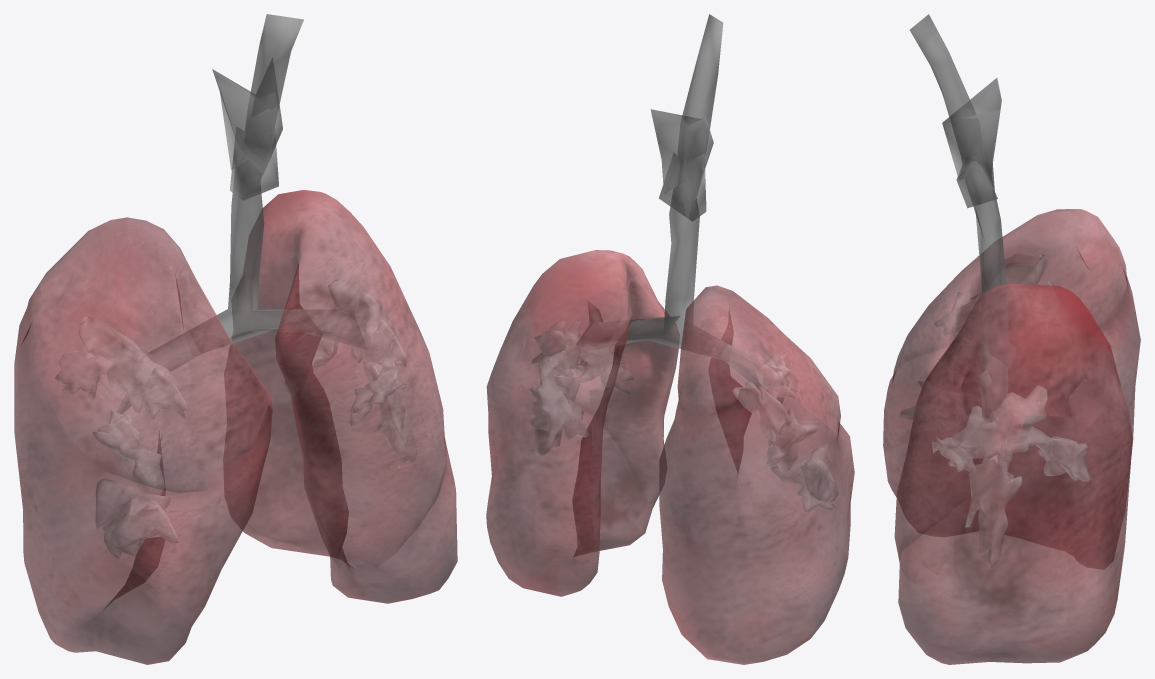
The model's file is simplified_lung6.obj.
The picture shows the model from 3 angles, left to right: view 1: azimuth 30°, elevation 25°; view 2: azimuth 150°, elevation 25°; view 3: azimuth 270°, elevation 25°; orthographic projection. The views are drawn at different scales.
Parts seen in each view (by area): view 1: thlow, infection, thup; view 2: thlow, thup, infection; view 3: thlow, thup, infection.
Part boxes in pixels (x1,y1,x2,y2): thlow: [14, 190, 457, 664]; infection: [55, 280, 416, 558]; thup: [111, 14, 367, 422]; thlow: [486, 250, 854, 664]; thup: [576, 14, 789, 429]; infection: [530, 320, 838, 511]; thlow: [883, 209, 1140, 664]; thup: [909, 14, 1007, 418]; infection: [900, 253, 1090, 567].
Bounding box in the file's own units: 2.63 × 4.35 × 1.71.
